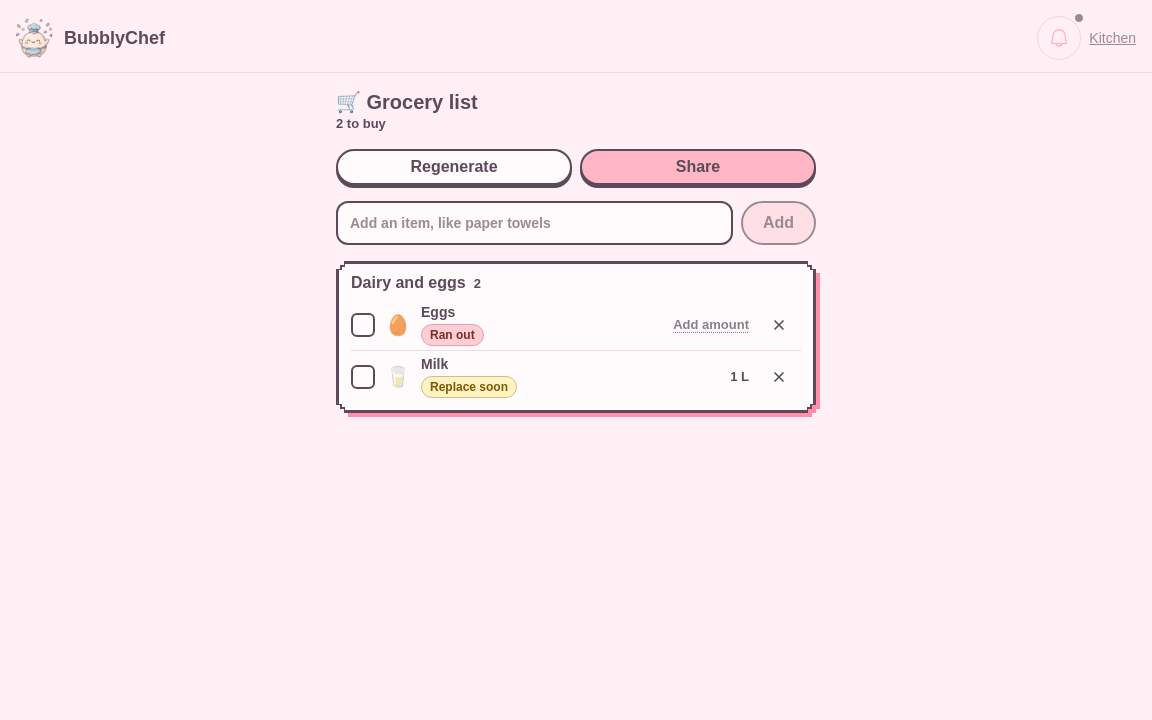
Scenario: /grocery: checking off › moves a line back to buy when it is unticked
Click the checkbox labelled "🥚 Eggs Ran out" at (438, 312), box [351,304,484,346]
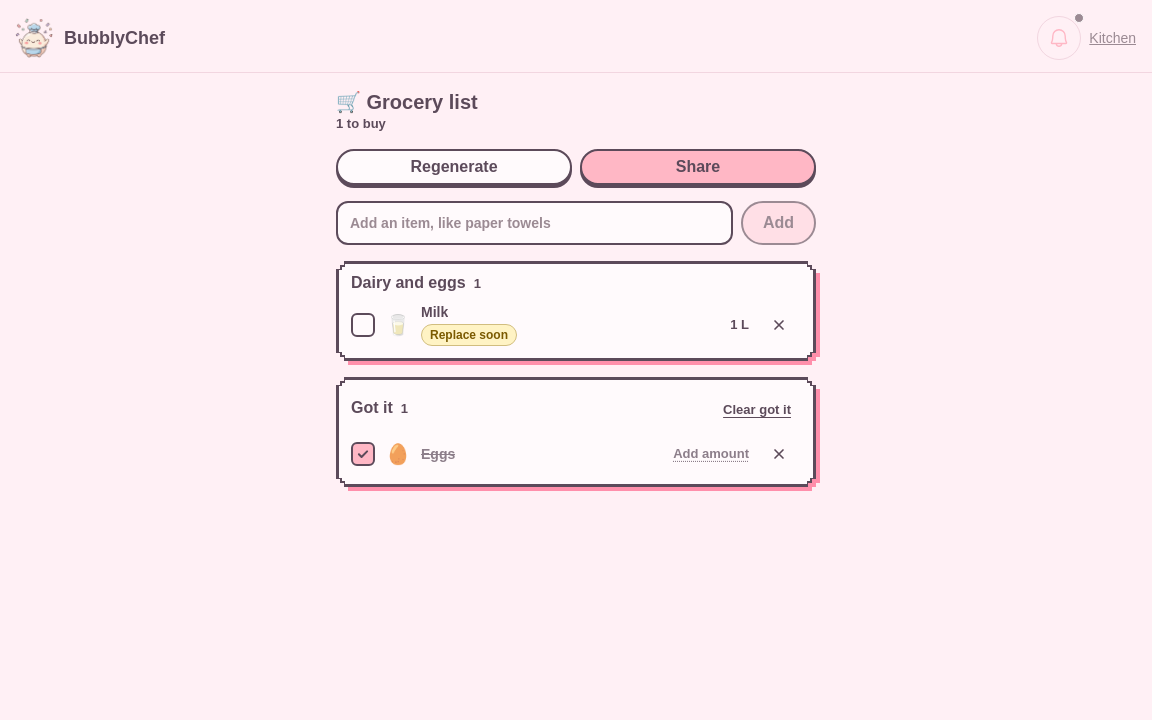
Click the checkbox labelled "🥚 Eggs" at (403, 454), box [351,442,455,466]
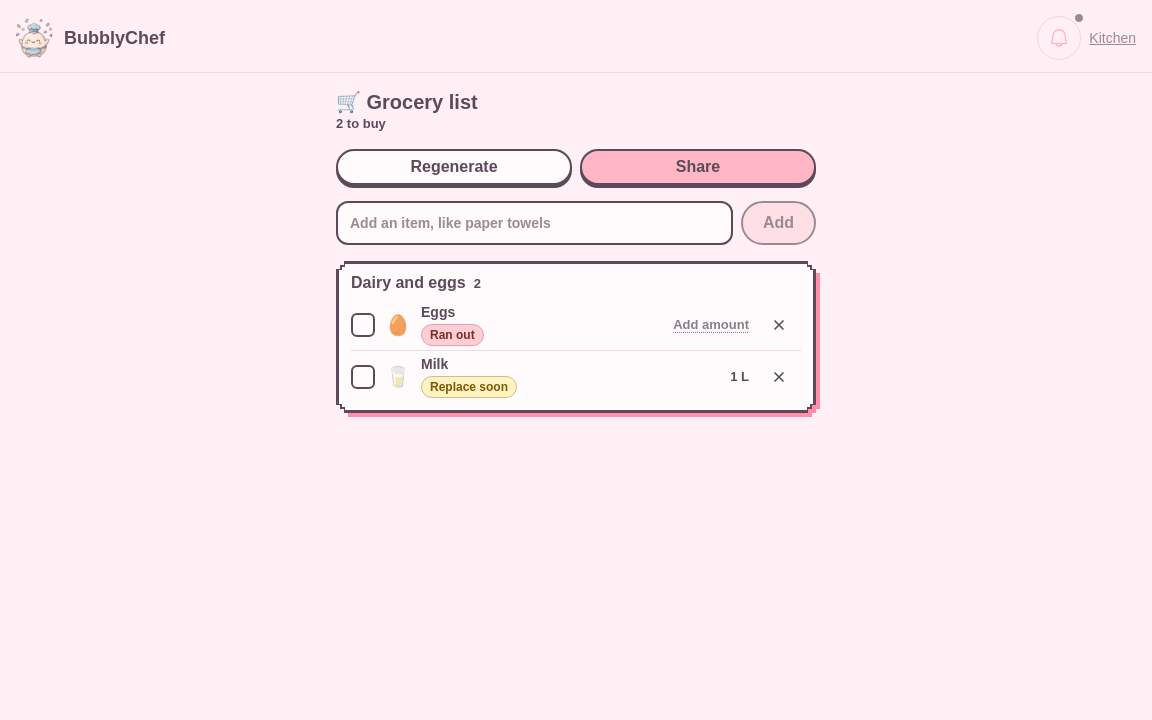
Expected: the heading "Got it" is gone
Expected: the checkbox labelled "🥚 Eggs Ran out" is not checked, [351,304,484,346]
